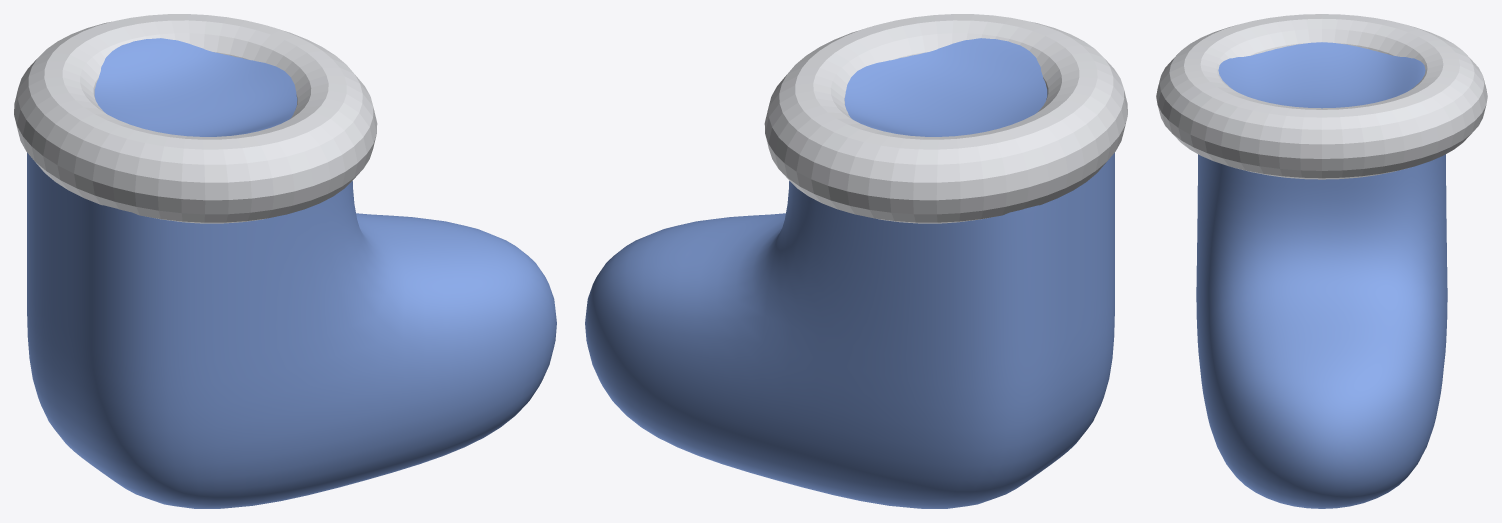
3 renders of one model, left to right at view 1: azimuth 30°, elevation 25°; view 2: azimuth 150°, elevation 25°; view 3: azimuth 270°, elevation 25°, orthographic. The views are drawn at different scales.
Parts seen in each view (by area): view 1: 立方体.090, 环体.014; view 2: 立方体.090, 环体.014; view 3: 立方体.090, 环体.014.
Boxes of the visible parts, x1,y1,x2,y2 form: 立方体.090: [27, 38, 556, 508]; 环体.014: [14, 14, 377, 223]; 立方体.090: [585, 38, 1114, 508]; 环体.014: [764, 14, 1127, 223]; 立方体.090: [1196, 42, 1447, 508]; 环体.014: [1156, 14, 1487, 179].
Bounding box in the file's own units: 243 × 187 × 166.
